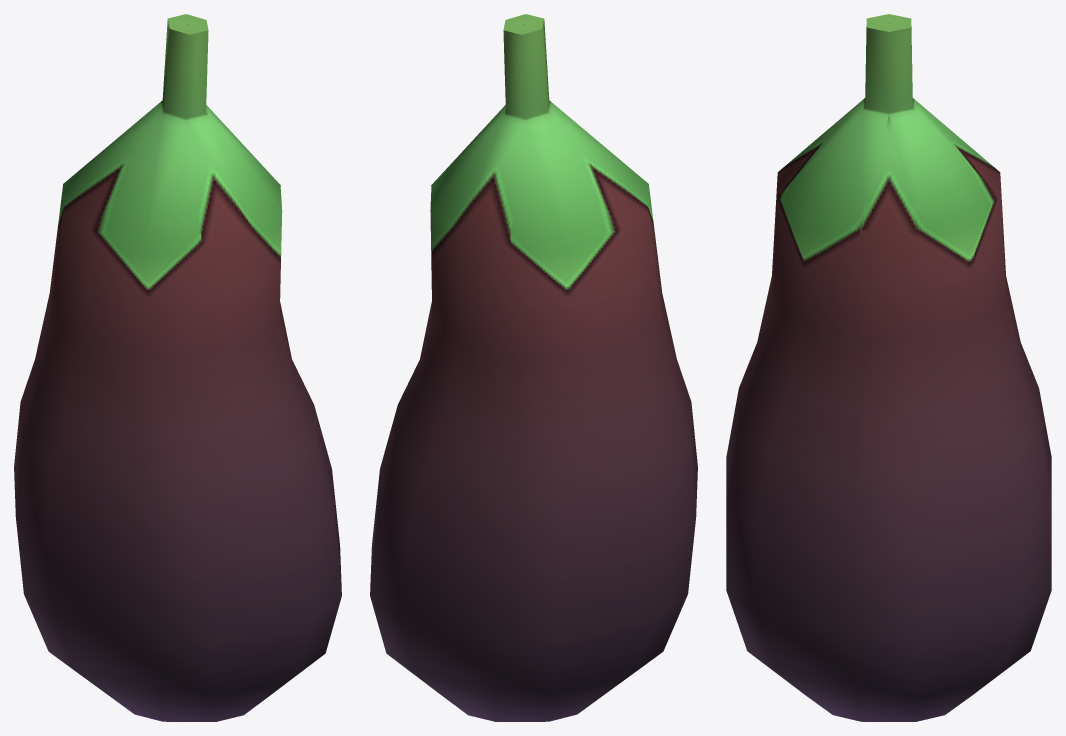
The model's file is 001-Aubergine.FBX.
3 renders of one model, left to right at view 1: azimuth 30°, elevation 25°; view 2: azimuth 150°, elevation 25°; view 3: azimuth 270°, elevation 25°, orthographic.
Parts seen in each view (by area): view 1: 001-Aubergine; view 2: 001-Aubergine; view 3: 001-Aubergine.
Part boxes in pixels (left/top/right/bottom): 001-Aubergine: left=14, top=14, right=341, bottom=721; 001-Aubergine: left=370, top=14, right=697, bottom=721; 001-Aubergine: left=726, top=14, right=1051, bottom=721.
Bounding box in the file's own units: 8.04 × 18.02 × 7.66.
